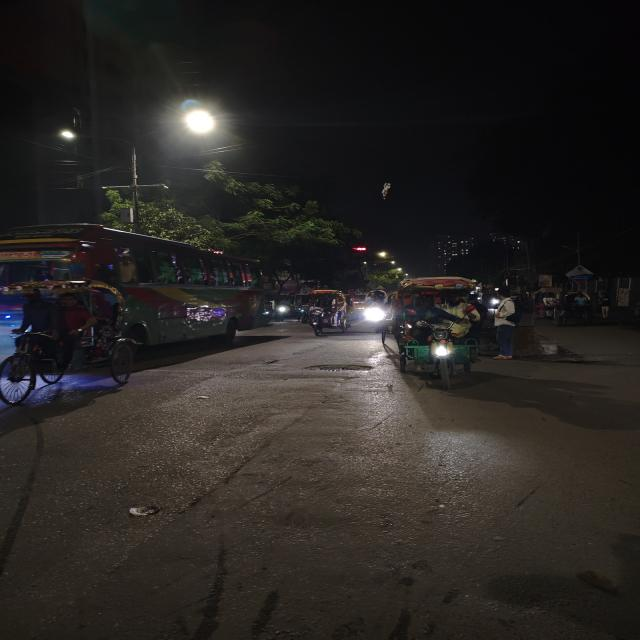bus: (1, 225, 273, 331)
pedestrian: (490, 288, 526, 359), (596, 292, 615, 322)
rickshaw: (0, 276, 150, 412), (381, 275, 484, 385), (297, 290, 354, 336), (530, 287, 584, 324), (356, 289, 391, 327)
